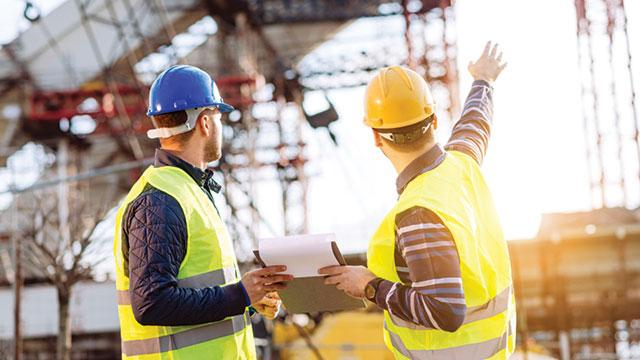helmet: (147, 65, 237, 124), (363, 64, 439, 133)
